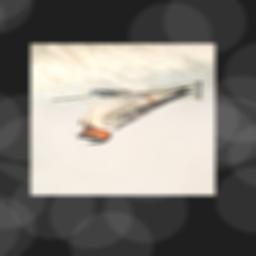Swallow: (74, 86, 195, 145)
